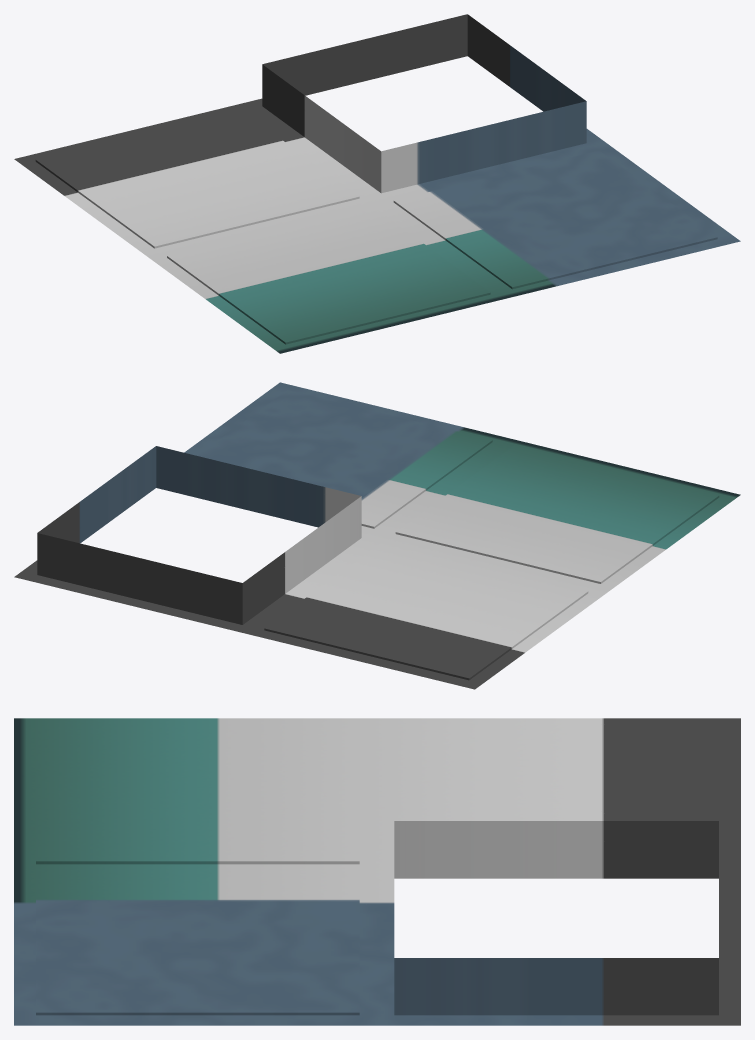
The model's file is Ceiling_Light_B_2x2.fbx.
3 renders of one model, top to bottom at view 1: azimuth 30°, elevation 25°; view 2: azimuth 150°, elevation 25°; view 3: azimuth 270°, elevation 25°, orthographic. The views are drawn at different scales.
Visible parts, largest first — view 1: Ceiling_Light_B_2x2; view 2: Ceiling_Light_B_2x2; view 3: Ceiling_Light_B_2x2.
Part boxes in pixels (bbox=[...]): Ceiling_Light_B_2x2: bbox=[14, 14, 740, 353]; Ceiling_Light_B_2x2: bbox=[14, 382, 740, 689]; Ceiling_Light_B_2x2: bbox=[14, 718, 740, 1025].
Size of the model in its own units: 200 by 17.44 by 200.
